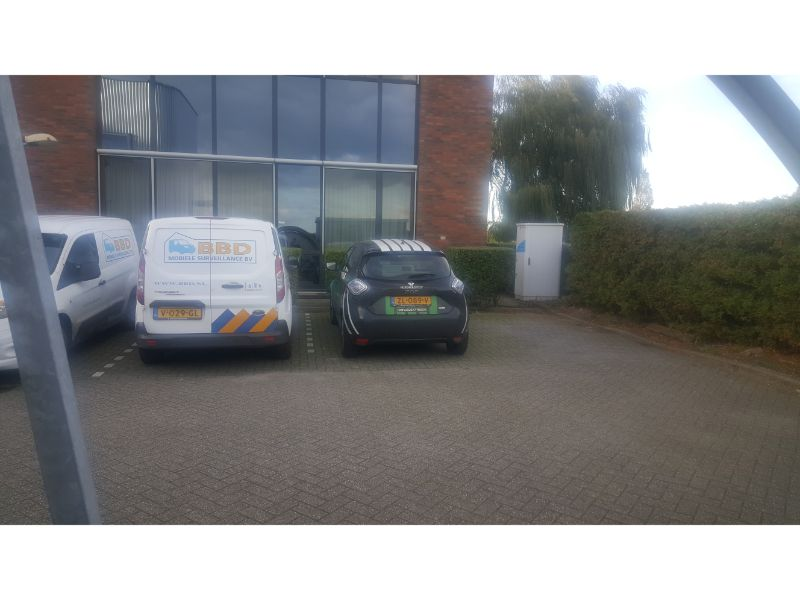kenteken: (155, 308, 200, 319), (391, 295, 431, 306)
